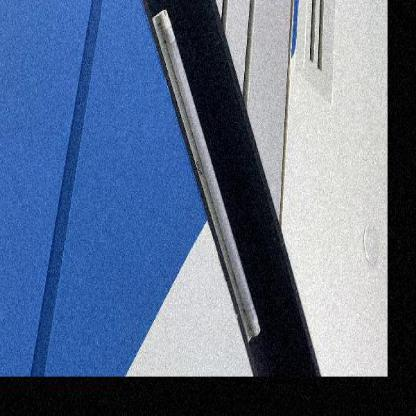light_off: (148, 0, 266, 345)
